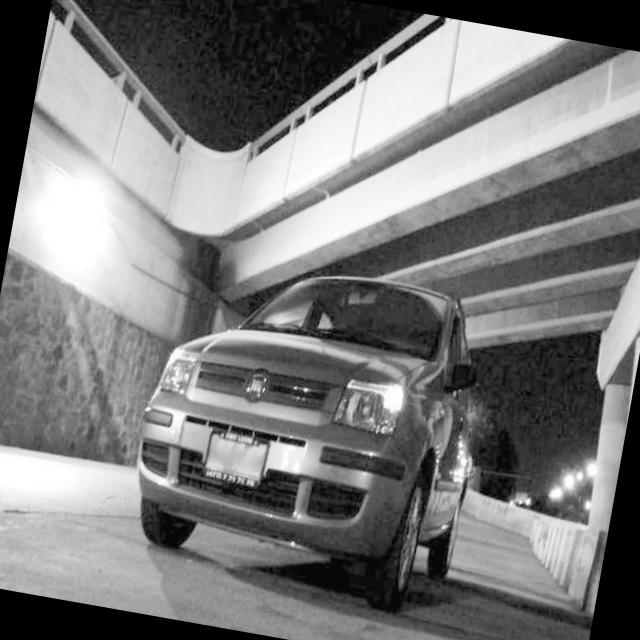Car: (104, 186, 521, 640)
